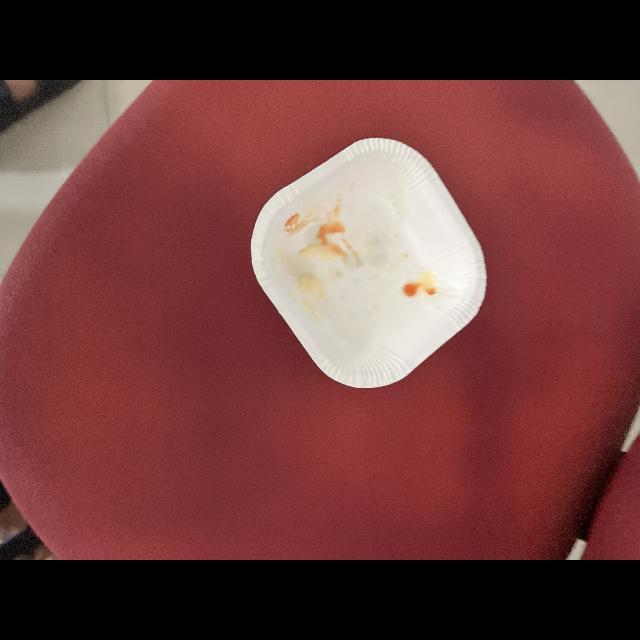cardboard_bowl: (248, 130, 488, 394)
